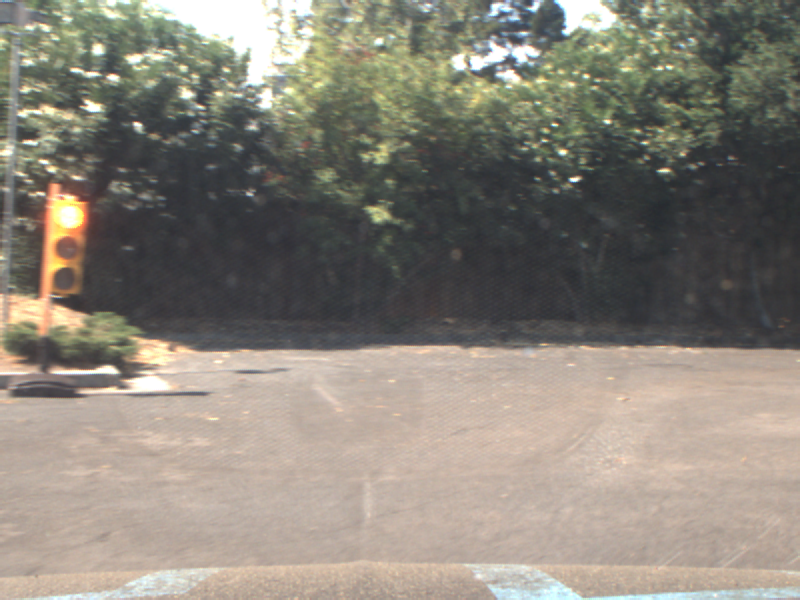red: (42, 186, 87, 297)
